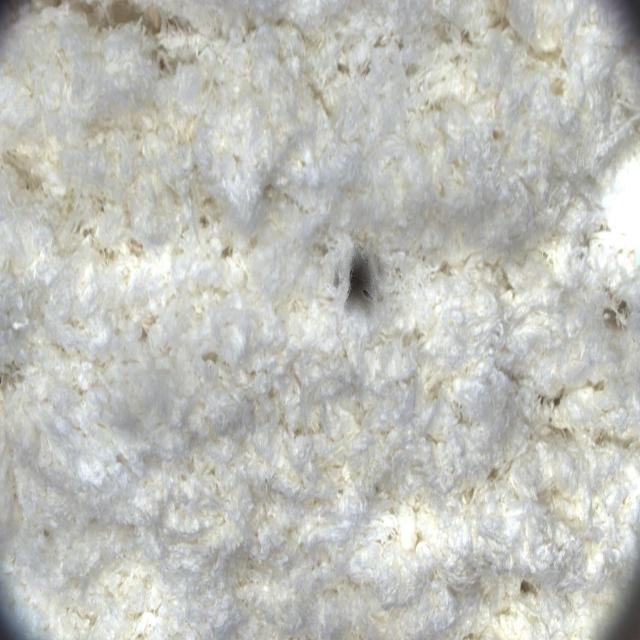dust: (317, 222, 410, 336)
